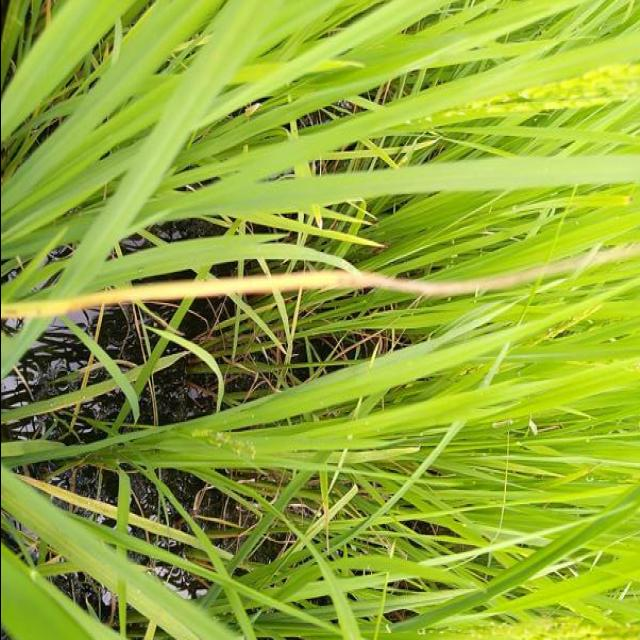Leaf Blight: (0, 240, 640, 317)
